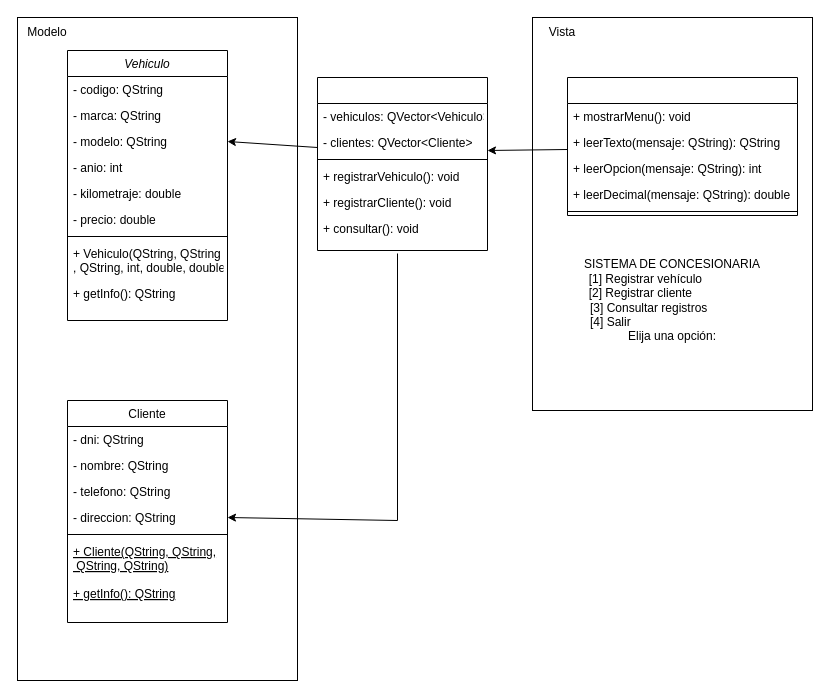
Image size: 830x698. Some labels were removed from this diagram. The box of each missing label's shape, as (x1, y1, x2, y2) in pixels:
Controlador: (316, 76, 488, 250)
VistaConsola: (566, 76, 798, 216)
